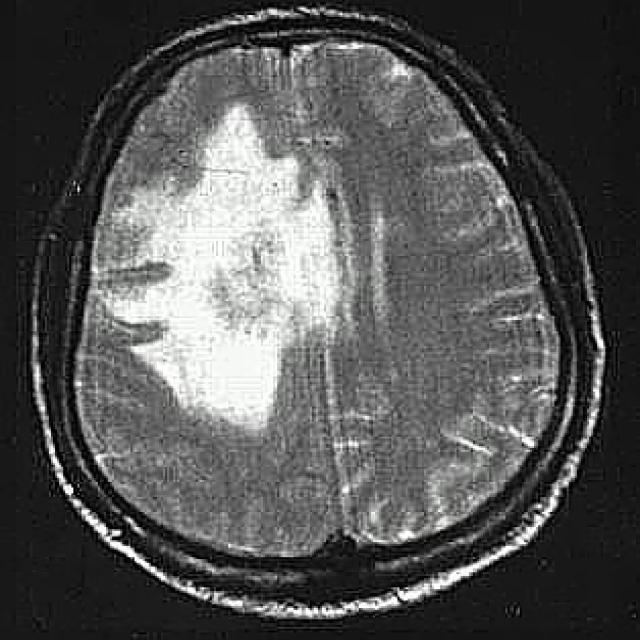Tumor-Cell: (133, 117, 345, 422)
